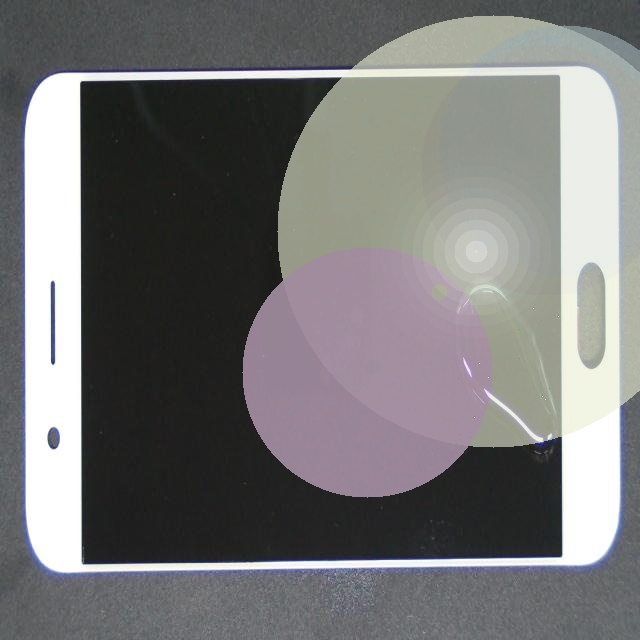oil: (253, 133, 640, 452)
